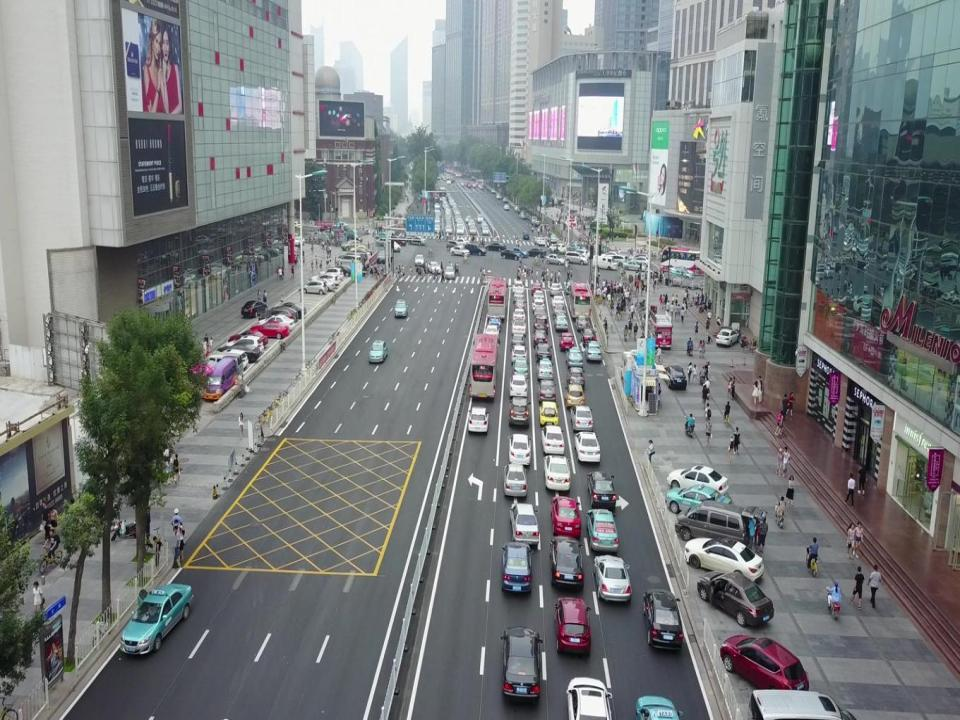bus: (469, 332, 496, 398), (660, 246, 708, 276), (567, 281, 593, 319), (568, 281, 592, 317), (648, 312, 672, 348), (489, 276, 507, 320), (431, 193, 441, 207)
car: (721, 635, 809, 696), (119, 583, 194, 654), (699, 570, 774, 624), (684, 538, 764, 582), (503, 625, 539, 703), (643, 590, 683, 650), (667, 464, 729, 499), (554, 597, 591, 654), (665, 485, 731, 515), (568, 676, 612, 720), (550, 535, 584, 588), (594, 554, 632, 600), (501, 542, 532, 593), (586, 509, 618, 552), (550, 496, 581, 536), (510, 503, 539, 544), (587, 471, 616, 507), (544, 455, 571, 491), (217, 342, 260, 362), (575, 432, 601, 463), (251, 319, 290, 339), (504, 464, 528, 496), (258, 306, 296, 326), (216, 347, 248, 369), (541, 424, 564, 454), (226, 334, 264, 352), (509, 434, 530, 465), (260, 304, 300, 320), (228, 330, 268, 346), (258, 316, 296, 332), (570, 405, 593, 431), (664, 364, 686, 389), (275, 301, 306, 318), (510, 397, 528, 426), (240, 300, 268, 318), (308, 276, 336, 292), (565, 384, 585, 406), (300, 280, 328, 295), (540, 401, 558, 424), (538, 379, 555, 402), (509, 375, 527, 396), (369, 340, 387, 361), (718, 330, 739, 348), (203, 261, 231, 274), (311, 273, 341, 285), (567, 365, 584, 386), (217, 257, 242, 271), (585, 340, 602, 360), (337, 253, 363, 266), (533, 308, 548, 330), (512, 357, 528, 377), (537, 359, 553, 379), (511, 344, 527, 364), (318, 266, 344, 278), (668, 264, 694, 276), (568, 246, 590, 260), (605, 253, 627, 267), (546, 252, 568, 266), (567, 346, 584, 364), (622, 259, 647, 271), (466, 242, 487, 256), (340, 237, 364, 249), (582, 326, 598, 344), (330, 264, 353, 276), (669, 269, 694, 280), (501, 248, 523, 260), (600, 248, 620, 261), (559, 332, 575, 348), (532, 328, 548, 344), (351, 245, 374, 256), (554, 312, 568, 330), (512, 317, 526, 335), (406, 234, 428, 245), (386, 234, 406, 246), (346, 248, 366, 260), (344, 231, 363, 243), (536, 342, 550, 358), (630, 256, 652, 266), (450, 245, 470, 256), (383, 239, 401, 251), (395, 298, 407, 316), (526, 247, 547, 257), (486, 241, 507, 251), (512, 332, 525, 348), (575, 316, 590, 329), (552, 303, 567, 316), (374, 236, 393, 246), (319, 229, 336, 240), (511, 247, 529, 257), (446, 239, 464, 249), (564, 279, 577, 292), (513, 307, 525, 321), (531, 298, 545, 310), (628, 253, 649, 261), (197, 245, 215, 254), (194, 234, 212, 243), (455, 238, 471, 248), (533, 289, 545, 302), (291, 235, 305, 246), (551, 294, 565, 305), (427, 262, 441, 273), (342, 227, 359, 236), (333, 220, 349, 229), (512, 289, 524, 301), (512, 281, 524, 293), (444, 266, 454, 280), (287, 220, 302, 229), (414, 253, 424, 266), (375, 231, 391, 239), (316, 224, 332, 232), (534, 235, 546, 245), (377, 250, 387, 262), (515, 298, 525, 310), (532, 280, 542, 292), (468, 225, 476, 235), (456, 225, 464, 235), (570, 242, 583, 248), (550, 234, 558, 243), (444, 225, 452, 233), (522, 232, 530, 240), (481, 227, 490, 234), (433, 225, 440, 233), (532, 220, 541, 226), (466, 217, 474, 223), (455, 221, 463, 226), (503, 204, 509, 210), (468, 221, 475, 226), (465, 216, 471, 221), (504, 196, 508, 203), (446, 179, 451, 184), (492, 187, 496, 193), (460, 182, 465, 186), (468, 183, 472, 187), (472, 184, 476, 187)
van: (675, 500, 751, 550), (202, 357, 240, 401), (211, 348, 244, 374), (592, 253, 618, 270), (565, 250, 589, 264), (549, 242, 566, 253), (548, 282, 560, 295), (516, 210, 526, 219), (476, 213, 484, 222), (530, 216, 539, 223), (494, 193, 502, 199), (515, 205, 521, 212)
